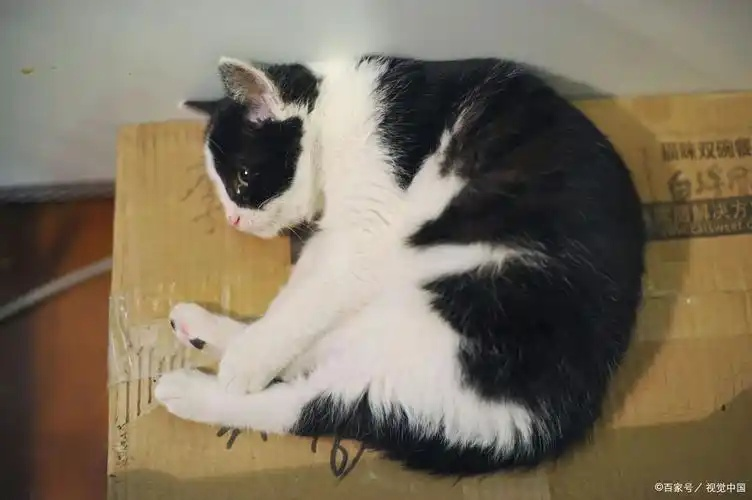奶牛猫: (156, 61, 539, 456)
